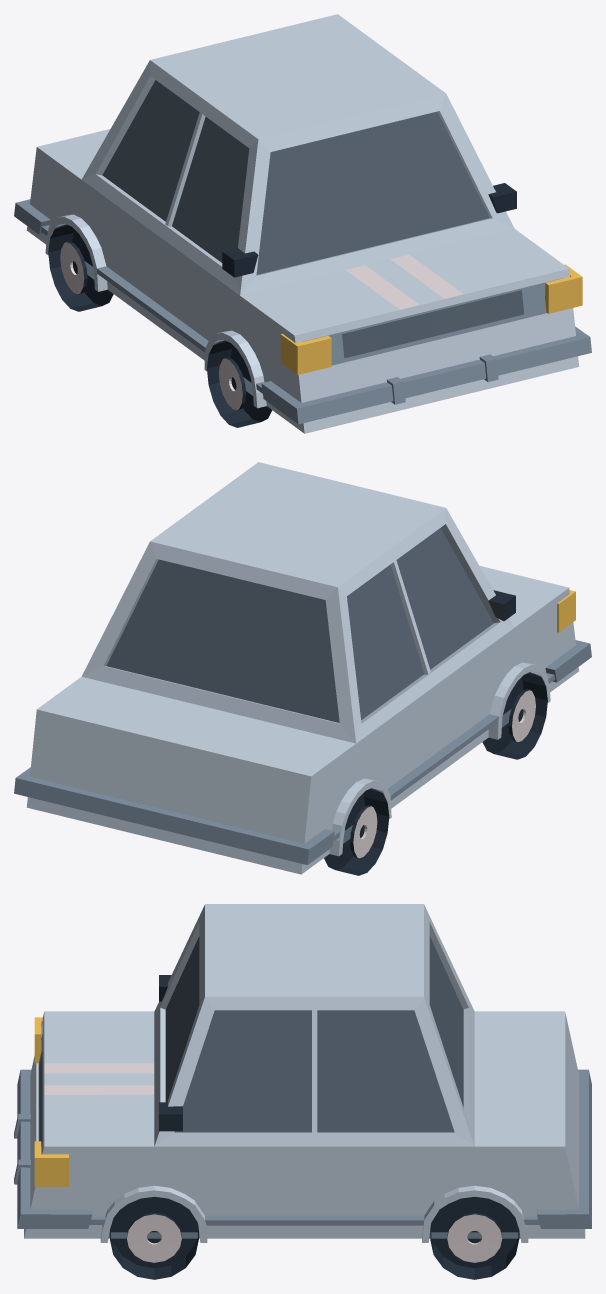
File: car9.fbx
3 views of the same model, one above another, from view 1: azimuth 30°, elevation 25°; view 2: azimuth 150°, elevation 25°; view 3: azimuth 270°, elevation 25° (orthographic).
Parts seen in each view (by area): view 1: purple.018; view 2: purple.018; view 3: purple.018.
Part boxes in pixels (left/top/right/bottom): purple.018: left=14, top=14, right=591, bottom=433; purple.018: left=14, top=462, right=591, bottom=875; purple.018: left=14, top=904, right=591, bottom=1279.
Size of the model in its own units: 216 by 177 by 361.
